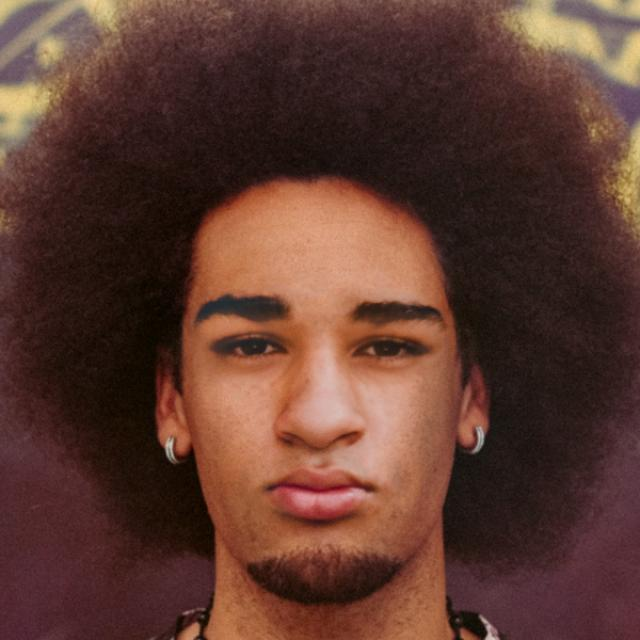face: (147, 182, 502, 601)
